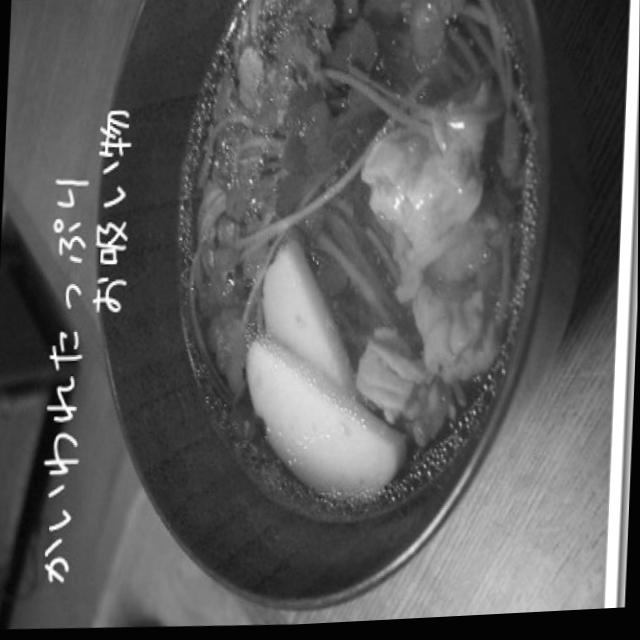汤锅炖物: (112, 0, 561, 564)
